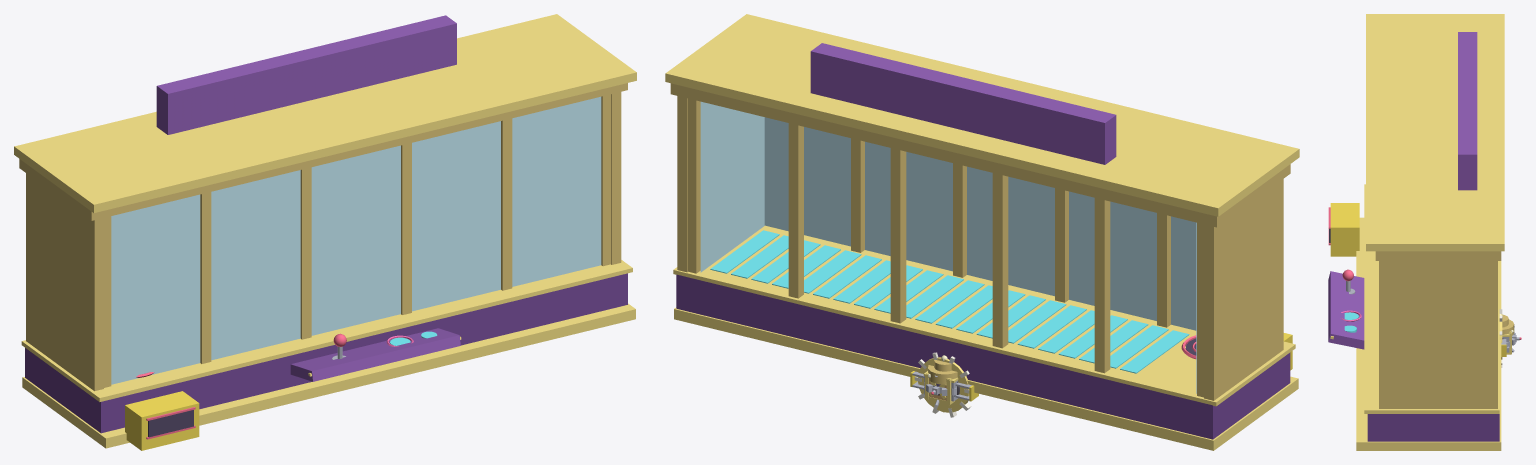
The model's file is claw.glb.
3 renders of one model, left to right at view 1: azimuth 30°, elevation 25°; view 2: azimuth 150°, elevation 25°; view 3: azimuth 270°, elevation 25°, orthographic. The views are drawn at different scales.
Parts seen in each view (by area): view 1: glassFront, cornice, frame, baseTrim, marqueeBox, base, console, chute, chuteMouth; view 2: frame, glassFront, cornice, baseTrim, base, vents, marqueeBox, glassEnds, chipBody; view 3: cornice, frame, baseTrim, base, marqueeBox, console, chute.
Part boxes in pixels (x1,y1,x2,y2): glassFront: (111, 96, 601, 384); cornice: (14, 14, 636, 212); frame: (19, 83, 627, 391); baseTrim: (21, 260, 635, 448); marqueeBox: (156, 15, 456, 134); base: (25, 273, 627, 433); console: (290, 328, 460, 381); chute: (125, 391, 199, 450); chuteMouth: (148, 410, 193, 437); frame: (670, 83, 1290, 400); glassFront: (764, 117, 1196, 330); cornice: (665, 14, 1299, 216); baseTrim: (673, 225, 1298, 450); base: (676, 274, 1290, 439); vents: (710, 230, 1189, 373); marqueeBox: (810, 43, 1116, 164); glassEnds: (700, 101, 1196, 393); chipBody: (918, 357, 969, 412); cornice: (1366, 14, 1504, 251); frame: (1375, 251, 1501, 408); baseTrim: (1356, 184, 1501, 450); base: (1367, 414, 1499, 441); marqueeBox: (1458, 32, 1477, 190); console: (1328, 271, 1364, 349); chute: (1330, 203, 1359, 256).
Bounding box in the file's own units: 16.9 × 9.28 × 6.
